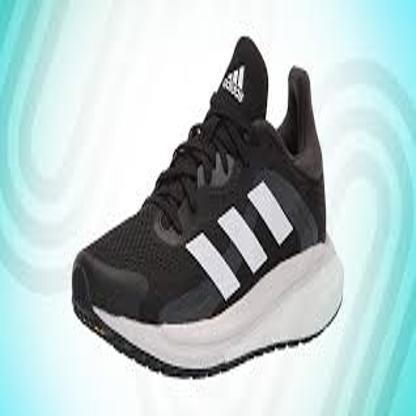not trash: (71, 31, 348, 378)
